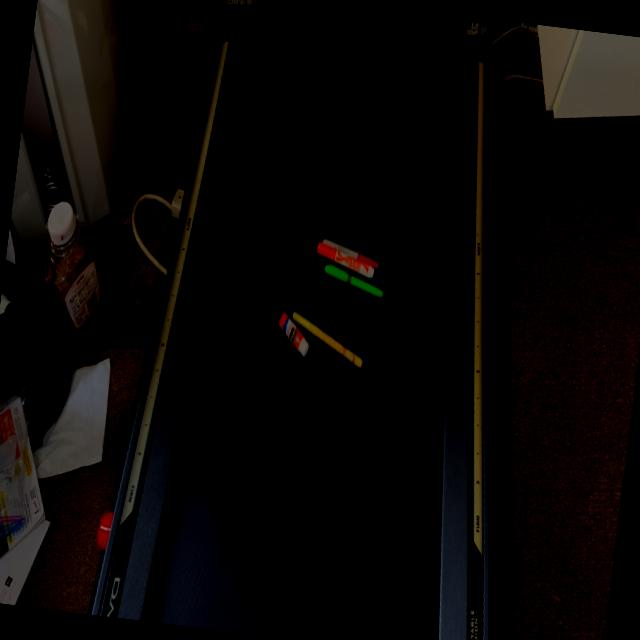Trash: (260, 299, 386, 399), (304, 212, 412, 310)
